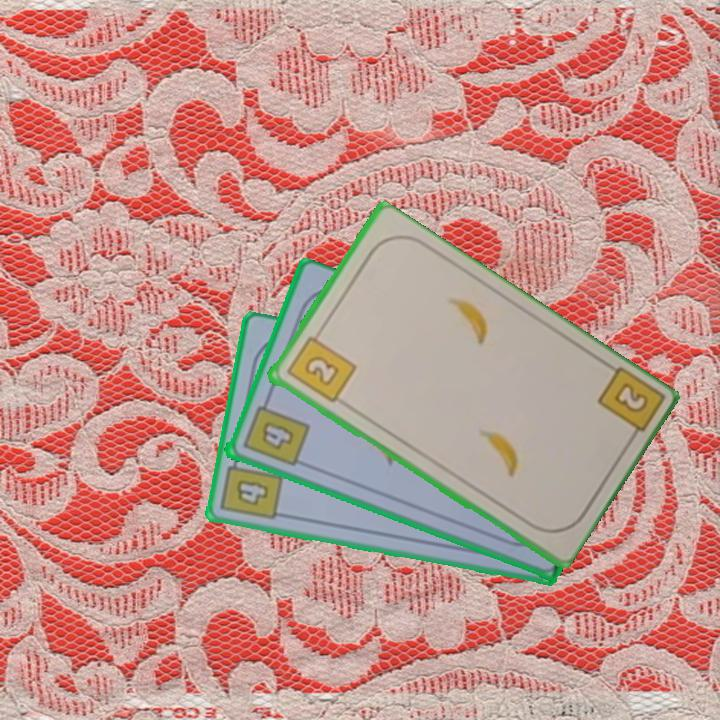2b: (282, 326, 358, 406), (593, 363, 664, 448)
4b: (238, 393, 311, 470), (217, 452, 286, 524)
